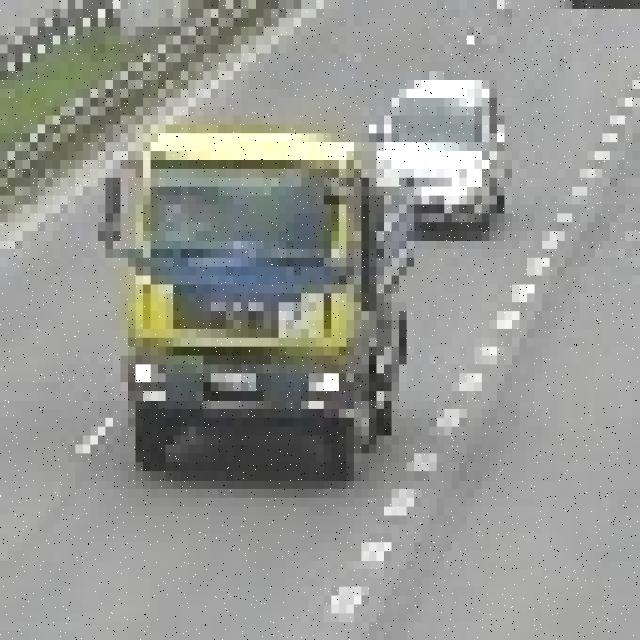truck: (90, 107, 414, 444)
